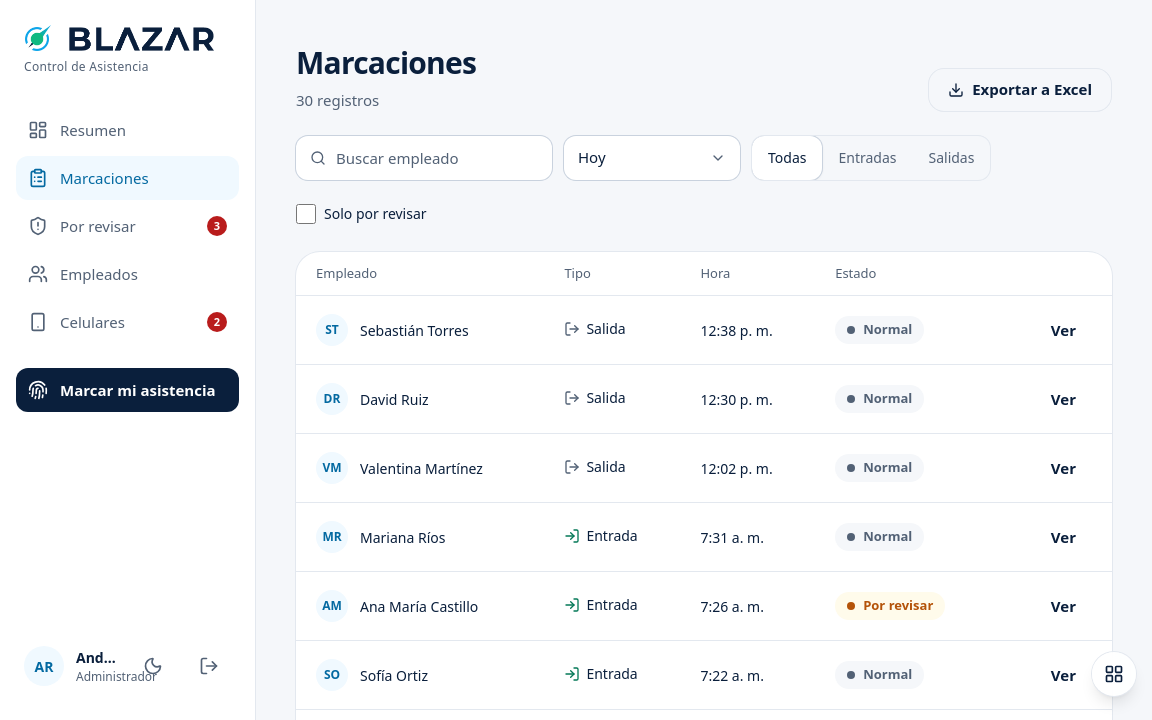
Marcaciones › un período sin datos muestra el estado vacío
Expected: the heading "Marcaciones" is shown, top-left (296, 40), bottom-right (476, 85)
Select "Ayer" in the dropdown named "Período" at (652, 158), box top-left (564, 136), bottom-right (740, 180)
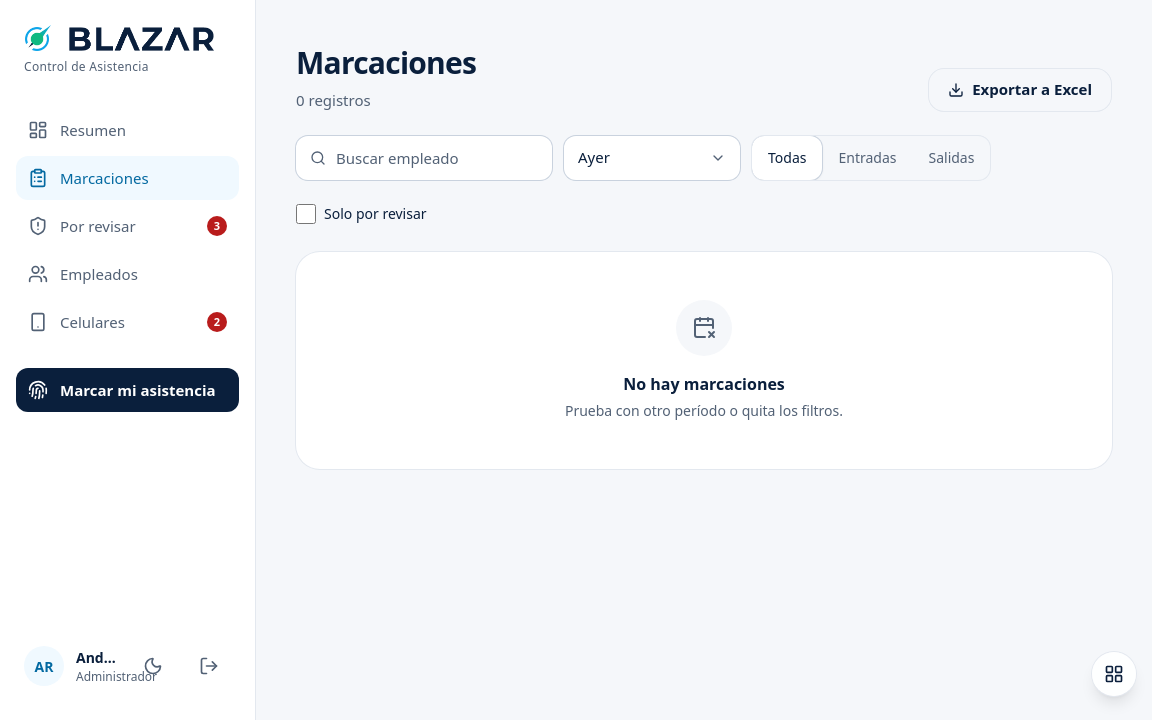
Expected: the text "No hay marcaciones" is shown, top-left (623, 372), bottom-right (785, 396)
